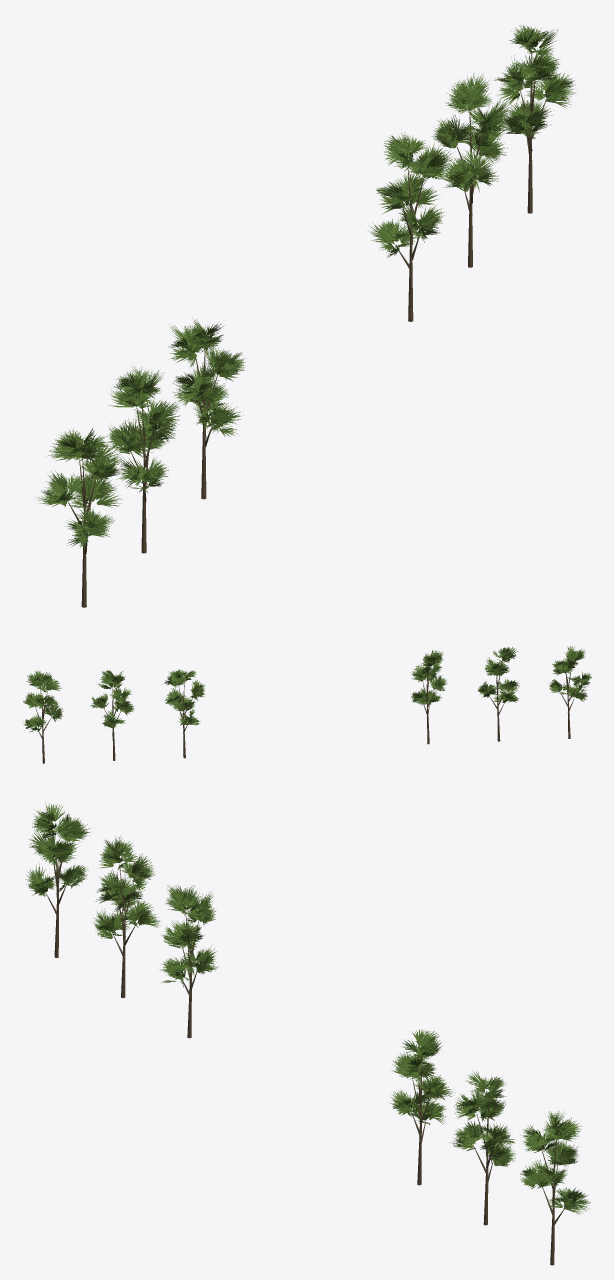
The model's file is hachiko_low_shrubs_only_v002.glb.
3 renders of one model, top to bottom at view 1: azimuth 30°, elevation 25°; view 2: azimuth 150°, elevation 25°; view 3: azimuth 270°, elevation 25°, orthographic. The views are drawn at different scales.
Visible parts, largest first — view 1: street_surround_needle, street_surround_branch; view 2: street_surround_needle, street_surround_branch; view 3: street_surround_needle, street_surround_branch.
Part boxes in pixels (bbox=[...]): street_surround_needle: bbox=[36, 25, 576, 548]; street_surround_branch: bbox=[67, 49, 547, 607]; street_surround_needle: bbox=[23, 646, 591, 731]; street_surround_branch: bbox=[34, 661, 576, 763]; street_surround_needle: bbox=[26, 802, 590, 1214]; street_surround_branch: bbox=[45, 829, 566, 1265].
Bounding box in the file's own units: 4.96 × 1.18 × 3.57.
Materials: 2 (1 with a texture image).
